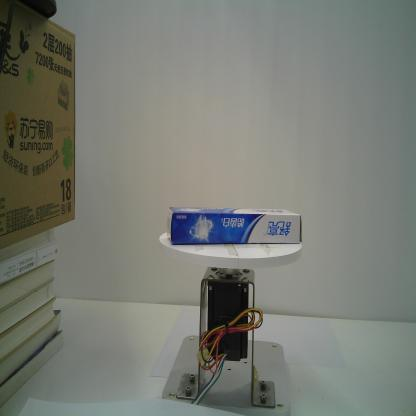Personal Hygiene: (167, 204, 305, 247)
